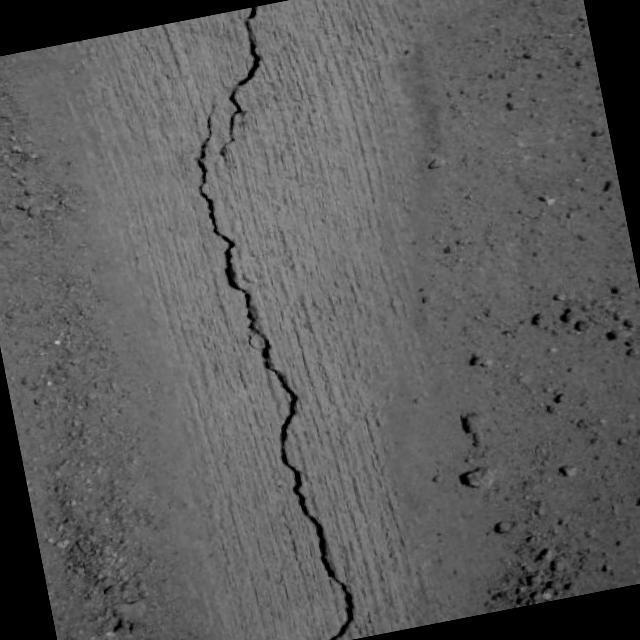crack: (160, 7, 384, 640)
